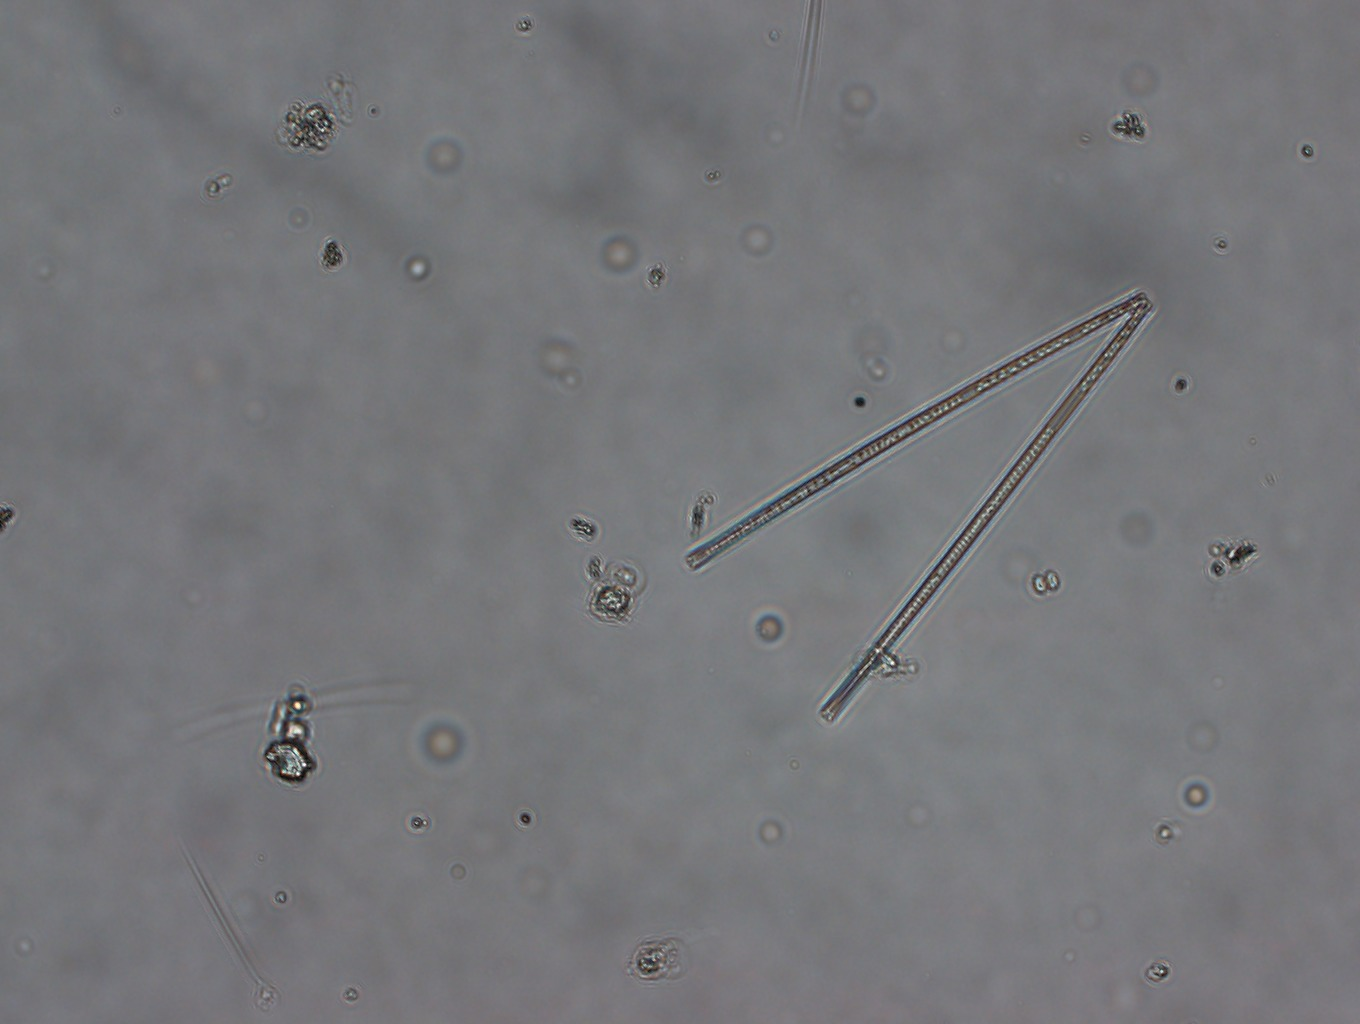thalassionema frauenfeldii: (674, 282, 1159, 723)
